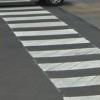Crosswalk: (3, 7, 100, 100)
